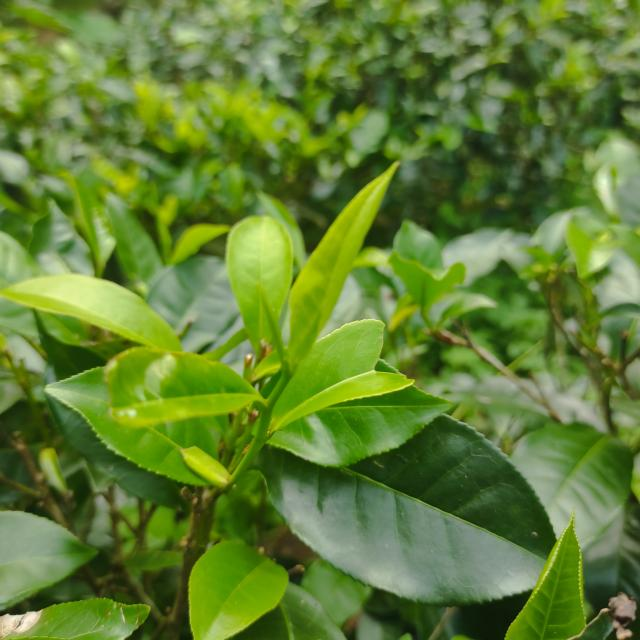unopened_leaf: (250, 274, 297, 382)
